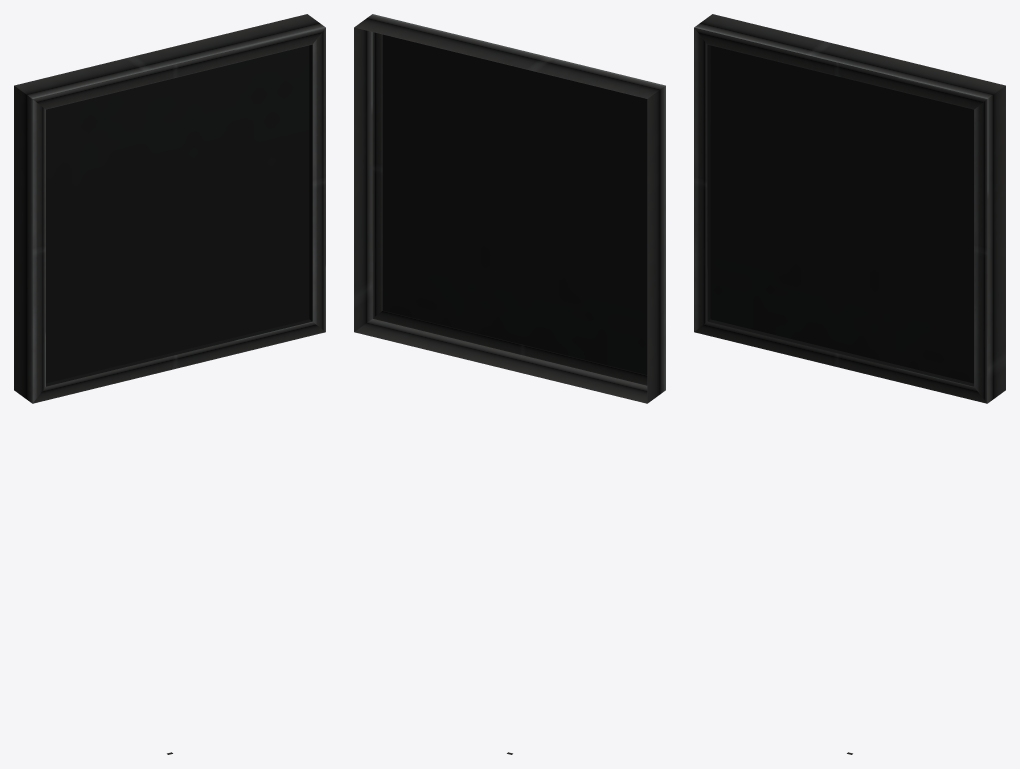
Rendered from telacomputadorP-desligado.fbx.
3 renders of one model, left to right at view 1: azimuth 30°, elevation 25°; view 2: azimuth 150°, elevation 25°; view 3: azimuth 330°, elevation 25°, orthographic.
Visible parts, largest first — view 1: Cylinder.001; view 2: Cylinder.001; view 3: Cylinder.001.
Part boxes in pixels (left/top/right/bottom): Cylinder.001: left=14, top=14, right=325, bottom=754; Cylinder.001: left=354, top=14, right=665, bottom=754; Cylinder.001: left=694, top=14, right=1005, bottom=754.
Size of the model in its own units: 0.9678 by 2.2 by 0.1055.
